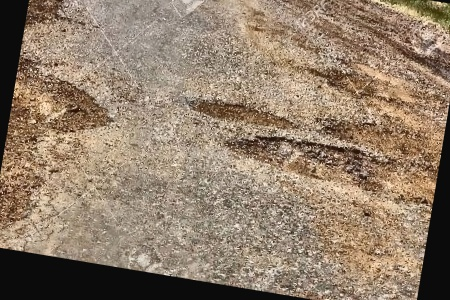pothole: (222, 124, 394, 199), (7, 54, 122, 151), (185, 93, 298, 133), (25, 0, 68, 33)
